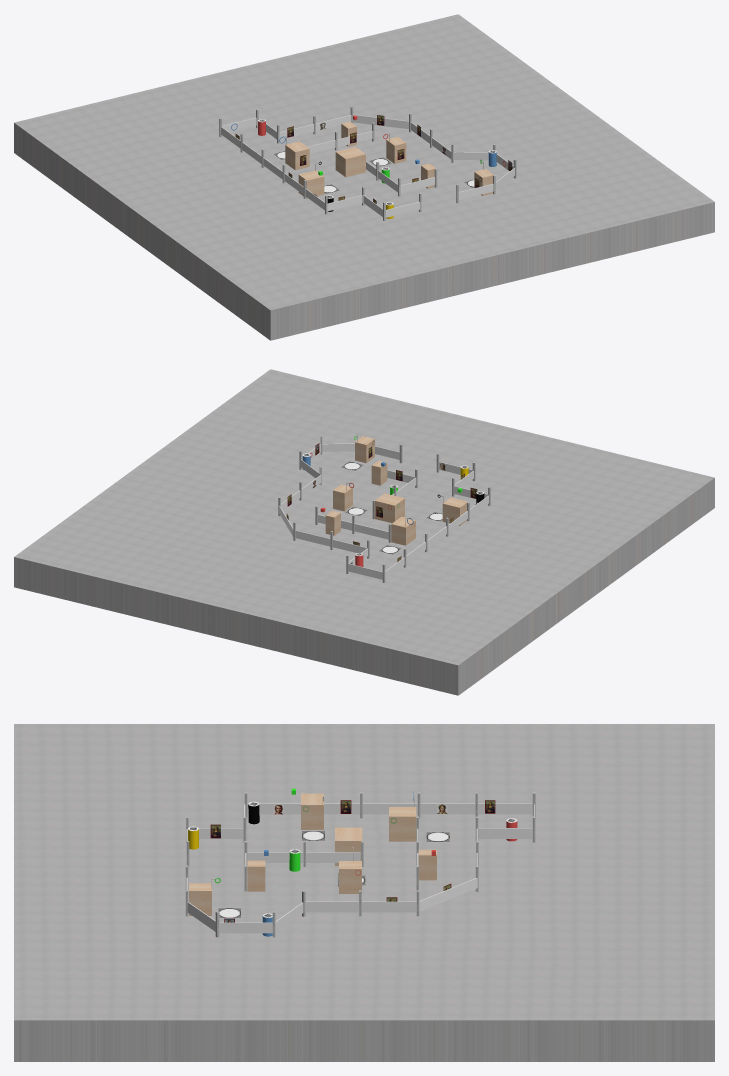
File: map.dae
The picture shows the model from 3 angles, top to bottom: view 1: azimuth 30°, elevation 25°; view 2: azimuth 150°, elevation 25°; view 3: azimuth 270°, elevation 25°; orthographic projection. The views are drawn at different scales.
Visible parts, largest first — view 1: main; view 2: main; view 3: main.
Boxes of the visible parts, left/top/right/bottom form: main: left=14, top=14, right=714, bottom=340; main: left=14, top=369, right=714, bottom=695; main: left=14, top=724, right=714, bottom=1061.
Size of the model in its own units: 15.34 by 15.34 by 1.92.
